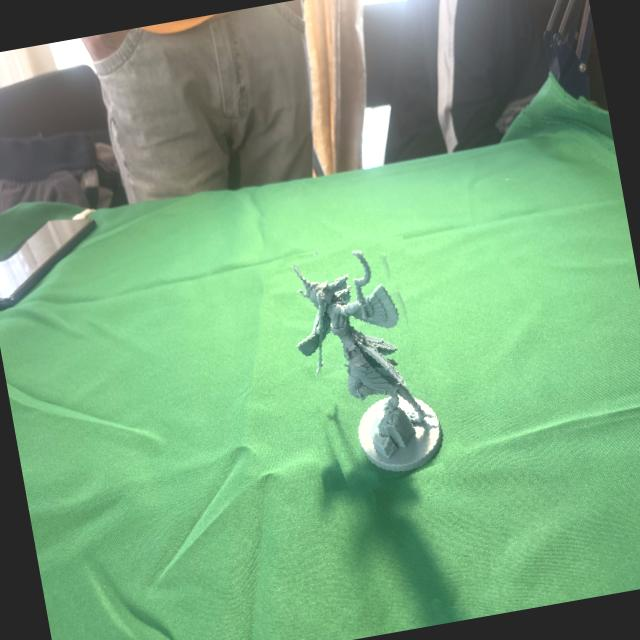isis: (271, 228, 457, 500)
